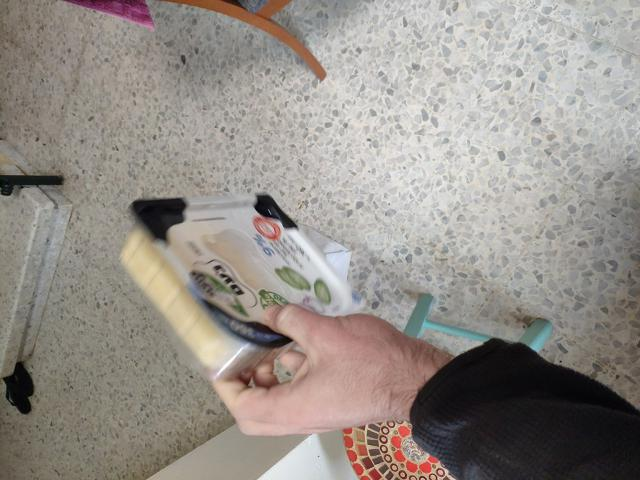cheese: (61, 121, 339, 452)
